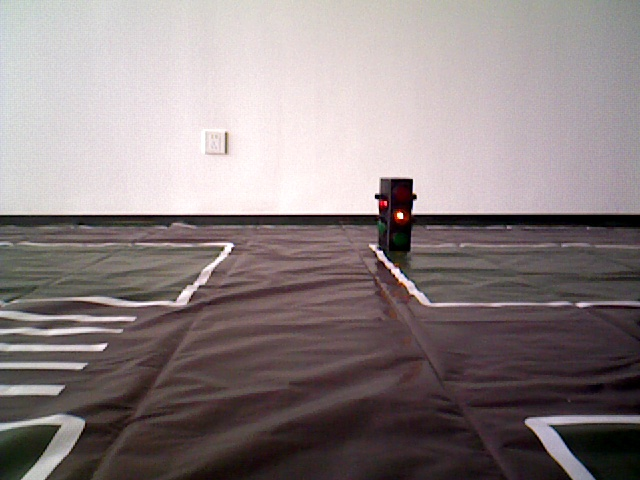yellow: (379, 176, 411, 250)
